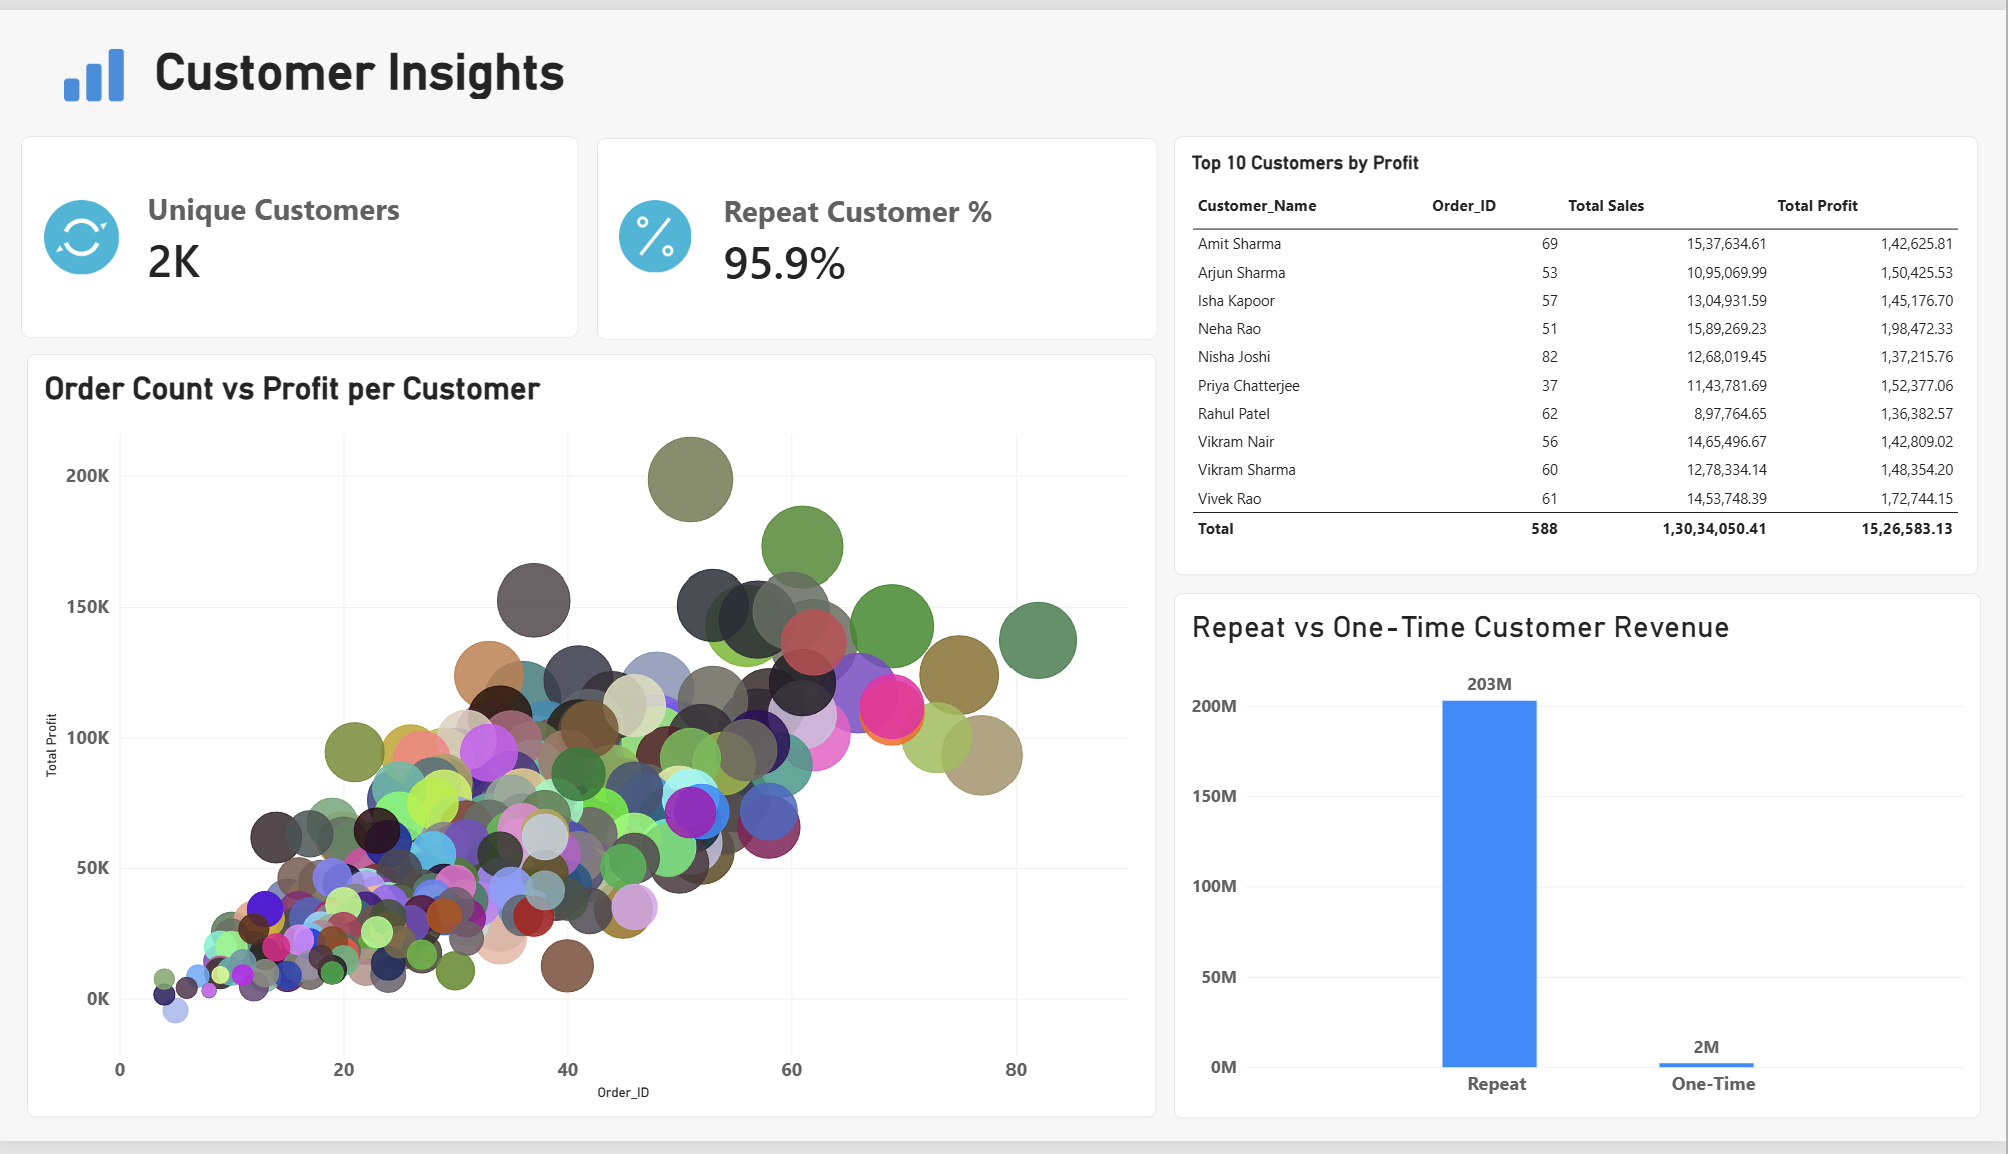

What the dashboard file says about the page in this screenshot:
{"tool":"powerbi","page":{"name":"Customer Insights","canvas":[1920,1080],"ordinal":2},"visuals":[{"type":"tableEx","title":"Top 10 Customers by Profit","fields":{"Values":["Customers.Column2","Retail_Sales_Raw_Data.Order_ID","Retail_Sales_Raw_Data.Total Sales","Retail_Sales_Raw_Data.Total Profit"]},"box":[1124.4,120,768.9,420],"z":0},{"type":"cardVisual","fields":{"Data":["Retail_Sales_Raw_Data.Unique Customers"]},"box":[22.2,120,533.3,193.3],"z":1},{"type":"cardVisual","fields":{"Data":["Retail_Sales_Raw_Data.Repeat Customer %"]},"box":[573.3,122.2,535.6,193.3],"z":2},{"type":"clusteredColumnChart","title":"Repeat vs One-Time Customer Revenue","fields":{"Category":["Retail_Sales_Raw_Data.Customer Type"],"Y":["Retail_Sales_Raw_Data.Total Sales"]},"box":[1123.7,556.3,771.6,502.4],"z":3},{"type":"scatterChart","title":"Order Count vs Profit per Customer","fields":{"Series":["Retail_Sales_Raw_Data.Customer_Name"],"Size":["Retail_Sales_Raw_Data.Total Sales"],"X":["Retail_Sales_Raw_Data.Order_ID"],"Y":["Retail_Sales_Raw_Data.Total Profit"]},"box":[29.2,329.7,1078.9,729],"z":4},{"type":"image","box":[22.2,182.2,115.6,71.1],"z":5},{"type":"image","box":[595.6,180,68.9,73.3],"z":6},{"type":"image","box":[53.3,22.2,77.8,71.1],"z":7},{"type":"textbox","title":"Customer Insights","box":[151.1,31.1,493.3,62.2],"z":8}]}

Visuals, with their boxes in screenshot pixels (x1, y1, x2, y2), scaled from the page's 1920x1080 canvas onto the 2014x1154 screenshot:
"Top 10 Customers by Profit" tableEx: [x1=1179, y1=128, x2=1986, y2=577]
cardVisual - Retail_Sales_Raw_Data.Unique Customers: [x1=23, y1=128, x2=583, y2=335]
cardVisual - Retail_Sales_Raw_Data.Repeat Customer %: [x1=601, y1=131, x2=1163, y2=337]
"Repeat vs One-Time Customer Revenue" clusteredColumnChart: [x1=1179, y1=594, x2=1988, y2=1131]
"Order Count vs Profit per Customer" scatterChart: [x1=31, y1=352, x2=1162, y2=1131]
image: [x1=23, y1=195, x2=145, y2=271]
image: [x1=625, y1=192, x2=697, y2=271]
image: [x1=56, y1=24, x2=138, y2=100]
"Customer Insights" textbox: [x1=158, y1=33, x2=676, y2=100]
